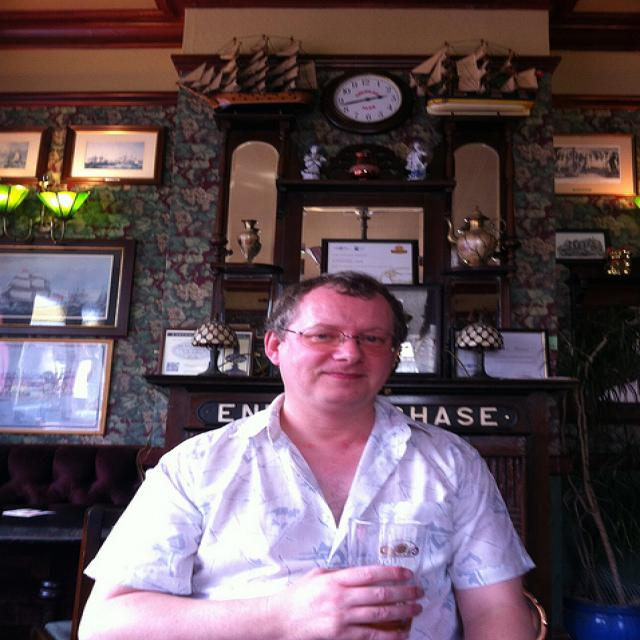chair: (70, 507, 129, 640)
dining table: (0, 502, 130, 540)
